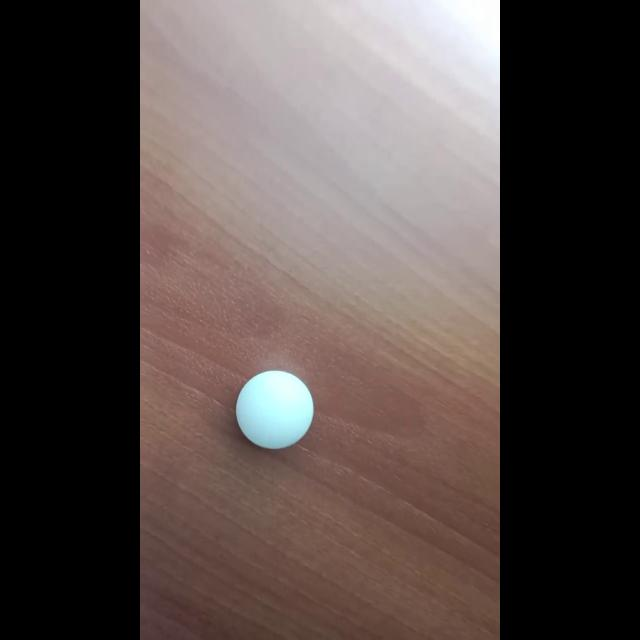white ball: (234, 370, 314, 450)
